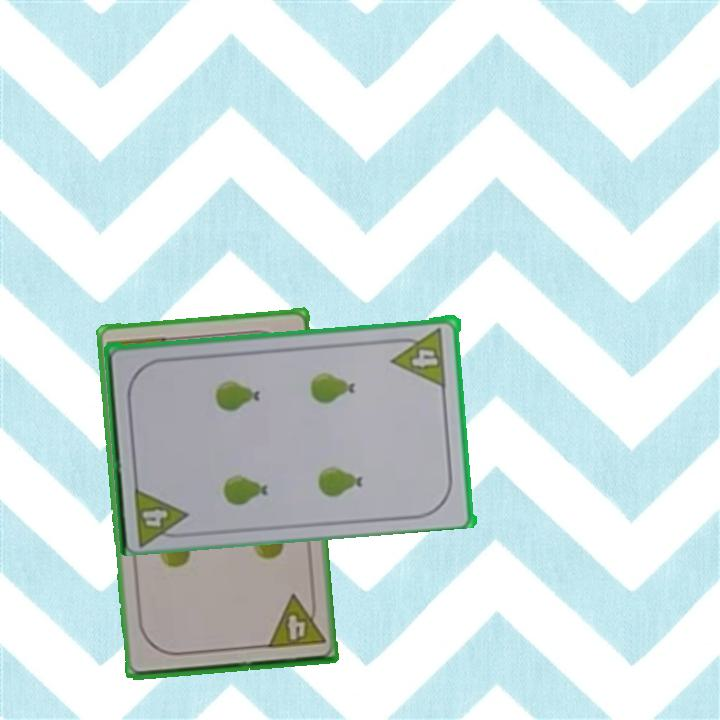4p: (263, 590, 328, 651), (390, 342, 445, 389), (139, 504, 171, 530)
